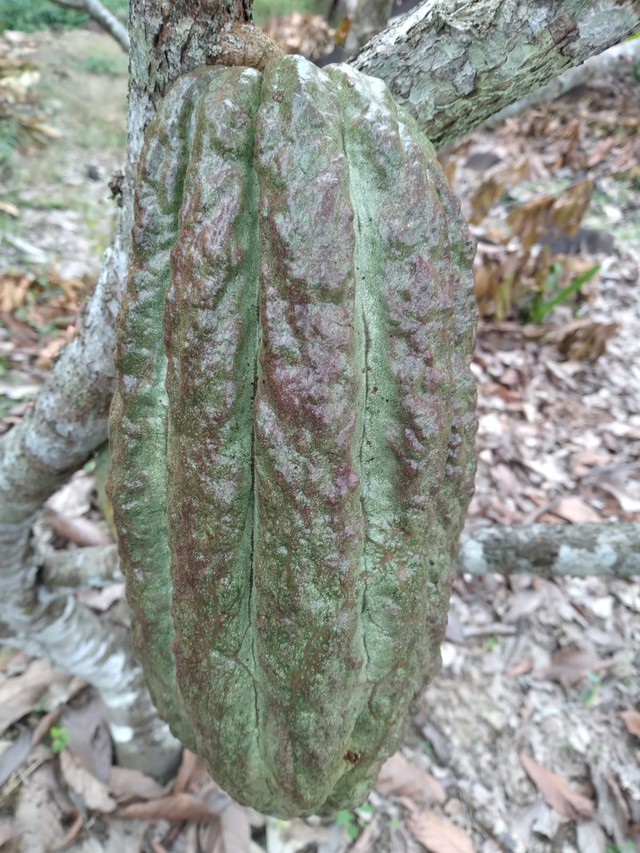Health: (98, 44, 493, 825)
